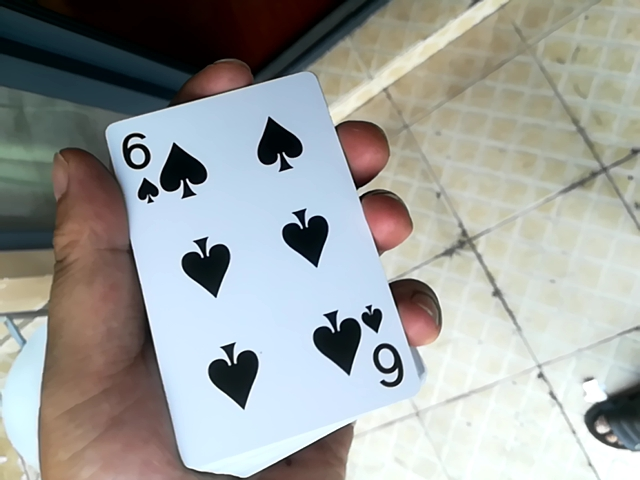ht 6: (95, 69, 406, 473)
